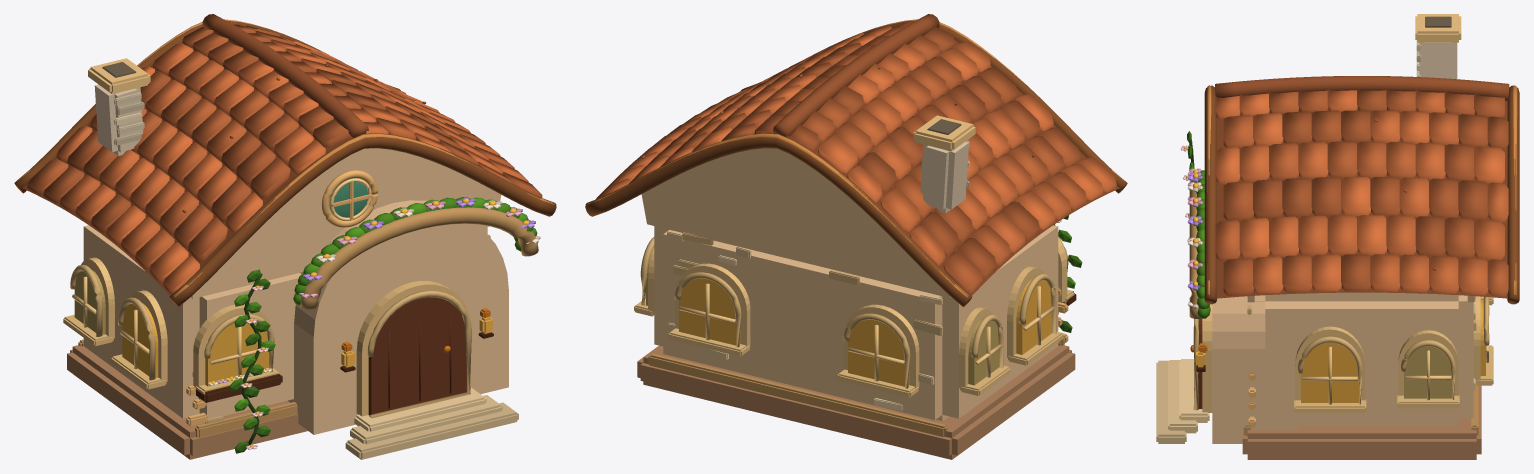
File: cottage-clay-annex.glb
3 renders of one model, left to right at view 1: azimuth 30°, elevation 25°; view 2: azimuth 150°, elevation 25°; view 3: azimuth 270°, elevation 25°, orthographic. The views are drawn at different scales.
Visible parts, largest first — view 1: cottage-clay-annex; view 2: cottage-clay-annex; view 3: cottage-clay-annex.
Boxes of the visible parts, left/top/right/bottom form: cottage-clay-annex: left=14, top=14, right=556, bottom=459; cottage-clay-annex: left=585, top=14, right=1127, bottom=459; cottage-clay-annex: left=1156, top=14, right=1519, bottom=459.
Size of the model in its own units: 6.15 by 4.85 by 5.15.
